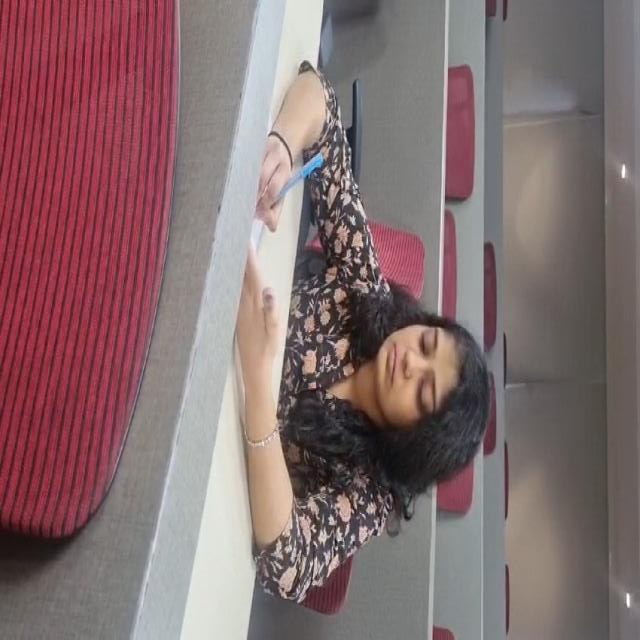cheating: (135, 121, 585, 423)
